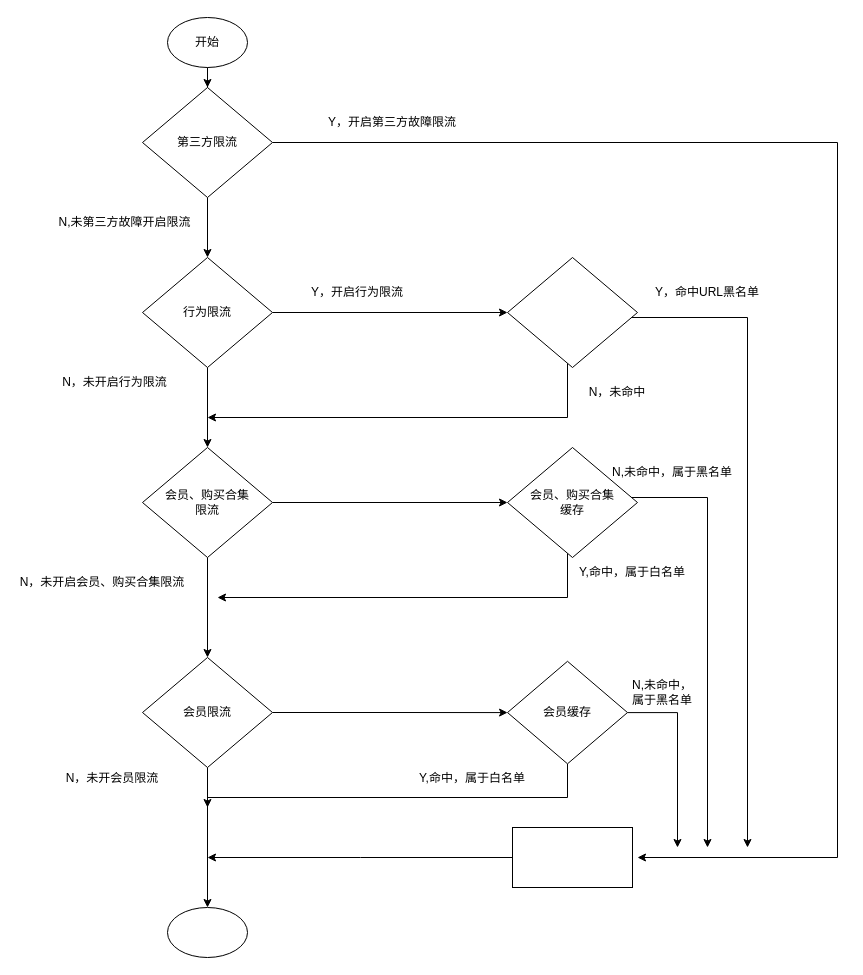
The diagram is 863 pixels wide and 975 high, and some of its shapes have lost their labels. Here are the shapes that lost their labels. From the top down, the box of each, then its label:
(506, 256, 638, 368): 行为限流缓存
(512, 826, 632, 888): 返回限流状态
(166, 906, 248, 958): 结束
